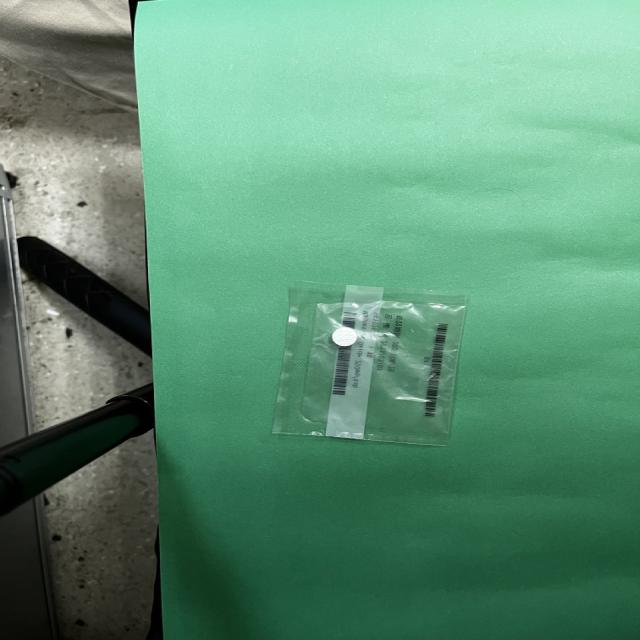Other Objects: (273, 283, 465, 446)
